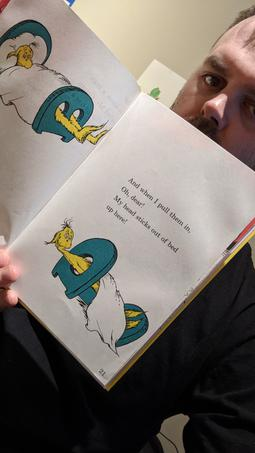text block: (96, 169, 200, 257)
